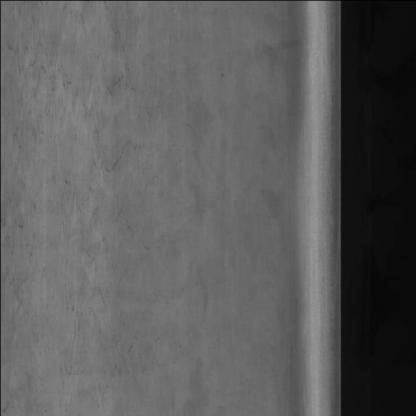silk_spot: (48, 57, 136, 199), (67, 235, 118, 315)
